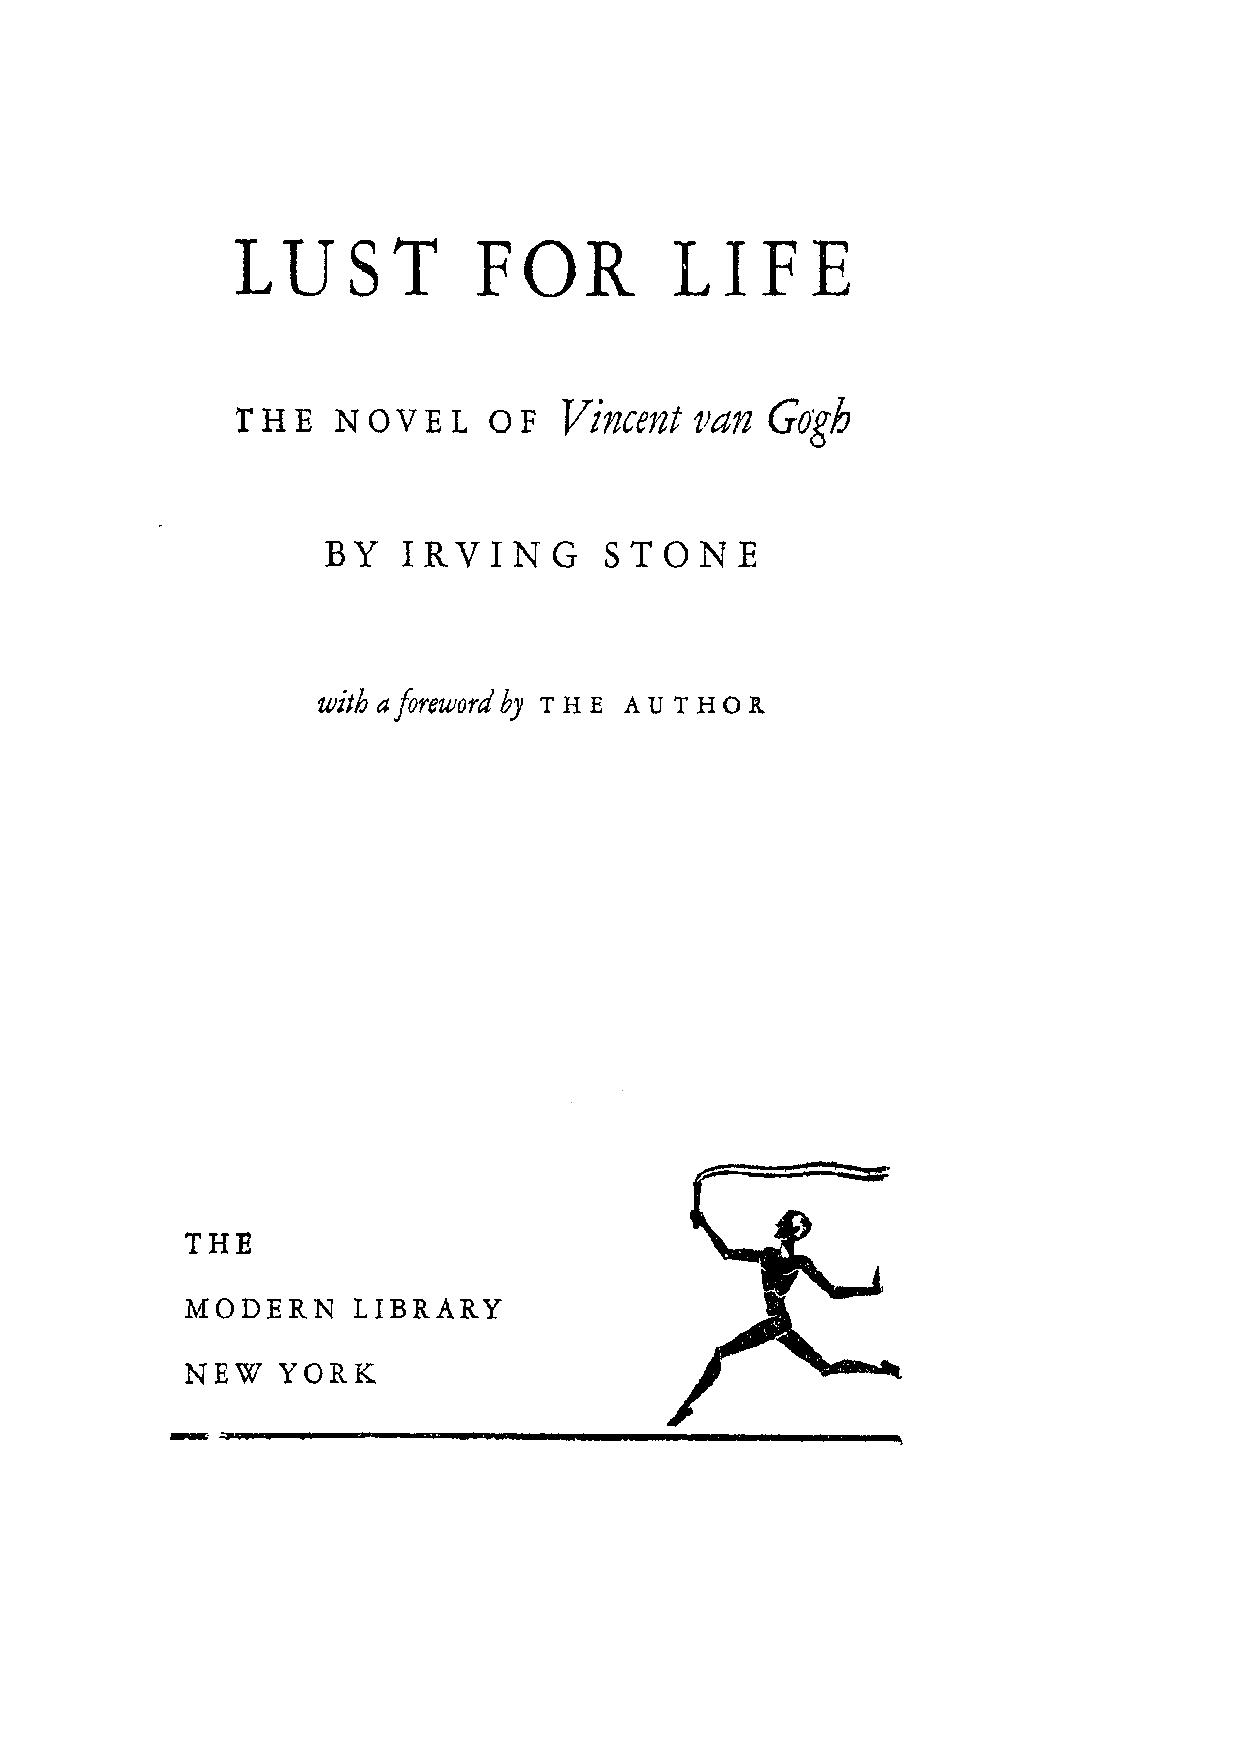author: (322, 537, 760, 570)
title: (229, 234, 854, 452)
